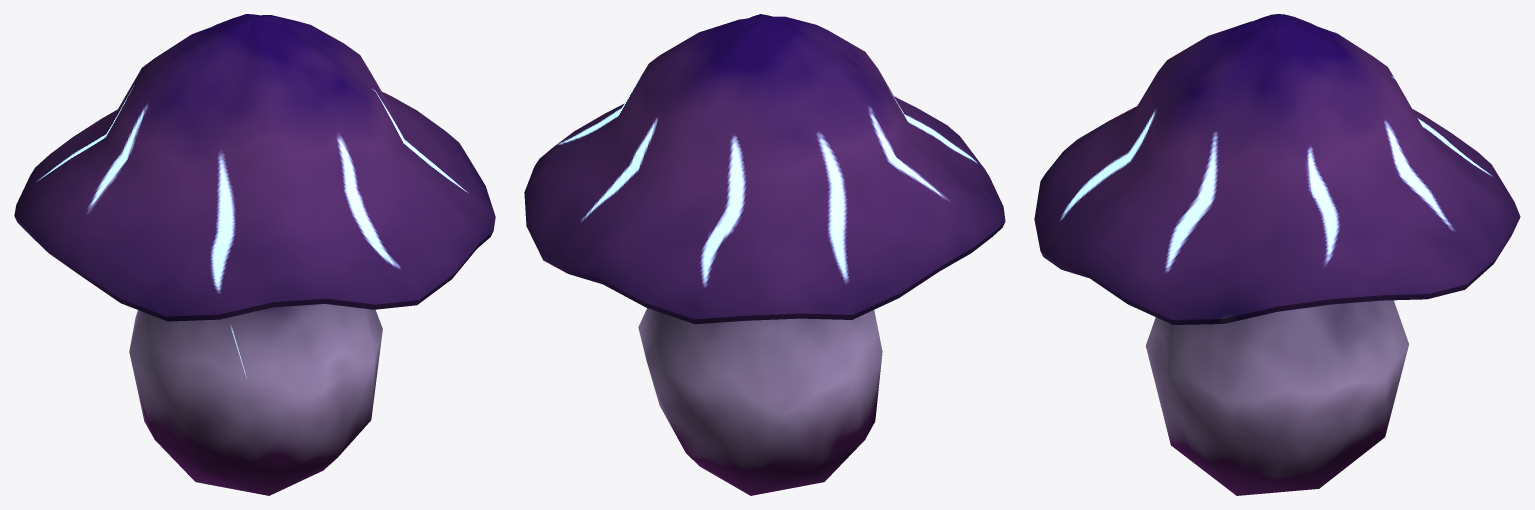
Rendered from Bigshroom.fbx.
3 views of the same model, side by side, from view 1: azimuth 30°, elevation 25°; view 2: azimuth 150°, elevation 25°; view 3: azimuth 270°, elevation 25° (orthographic).
Parts seen in each view (by area): view 1: Bigshroom; view 2: Bigshroom; view 3: Bigshroom.
Boxes of the visible parts, left/top/right/bottom form: Bigshroom: left=14, top=14, right=495, bottom=495; Bigshroom: left=524, top=14, right=1005, bottom=495; Bigshroom: left=1034, top=14, right=1520, bottom=495.
Bounding box in the file's own units: 161 × 172 × 161.
